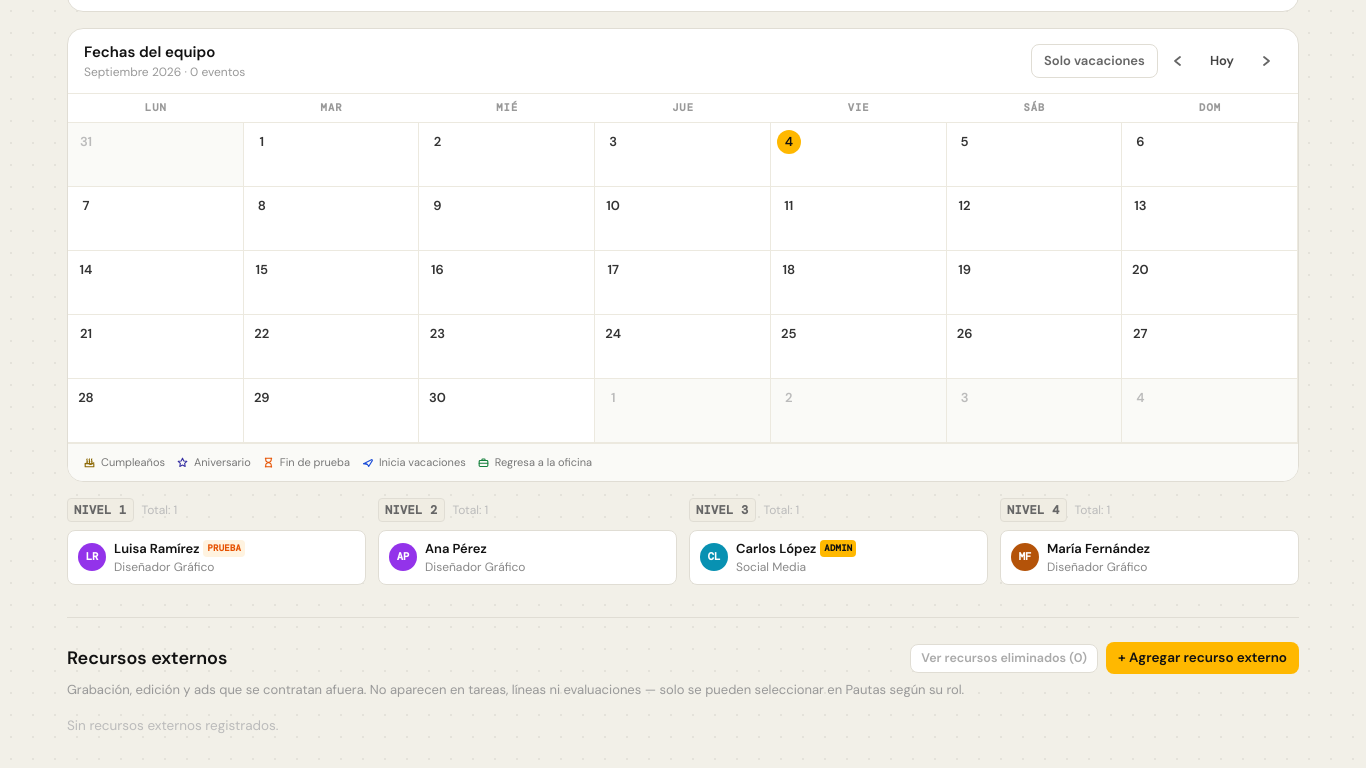
Test: EmployeesView › al hacer click en un empleado (vista columnas) se abre su ficha de detalle
This screenshot has width=1366, height=768.
(page scrolled)
Expected: the text "Ana Pérez" is shown, [425,538,487,558]
What coordinates should you click on to do the following:
click the button with aria-label "Ver ficha de Ana Pérez"
I would click on:
 (488, 557)
Its box is [389,538,587,576].
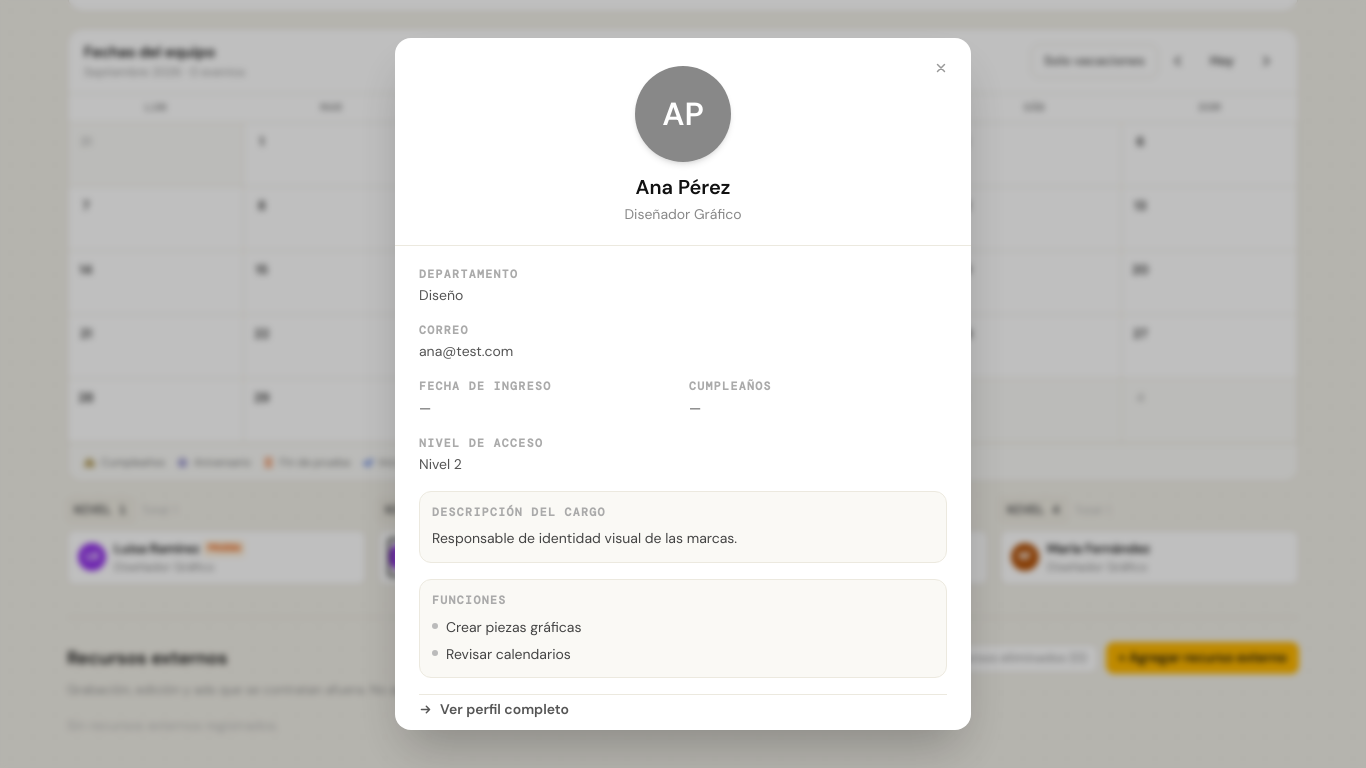
Result: the text "Nivel de acceso" is shown at [419,436,543,451]
Result: the link "ana@test.com" is shown at [419,342,513,360]
